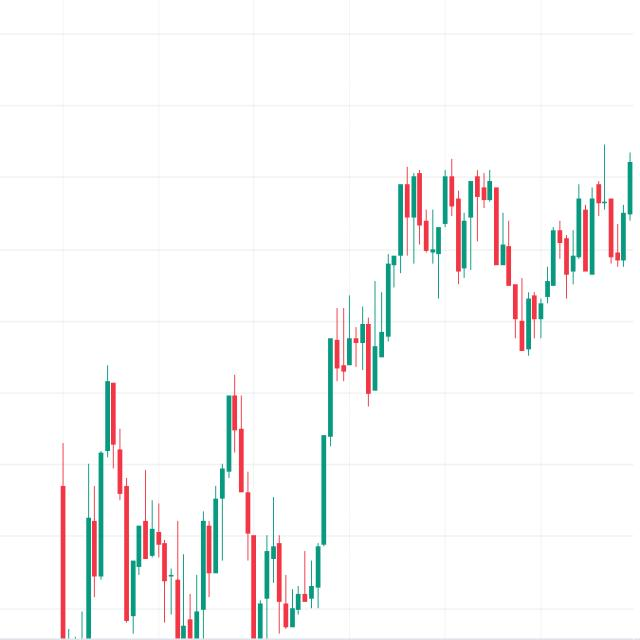Triple-Top: (377, 145, 524, 289)
